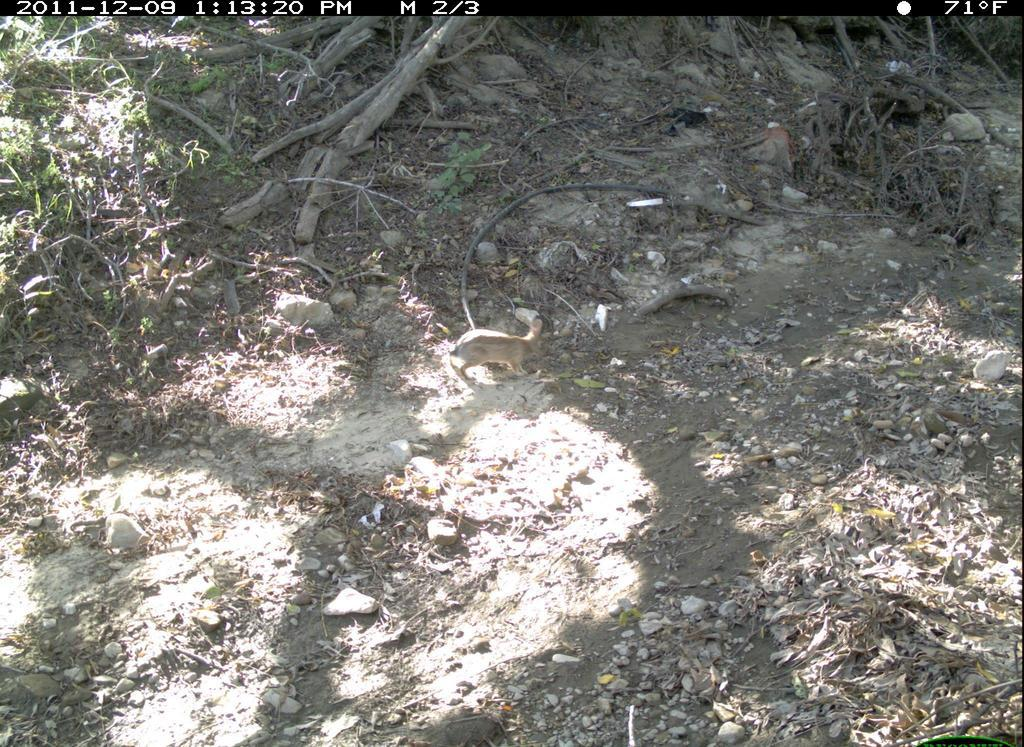rabbit: (443, 306, 557, 385)
